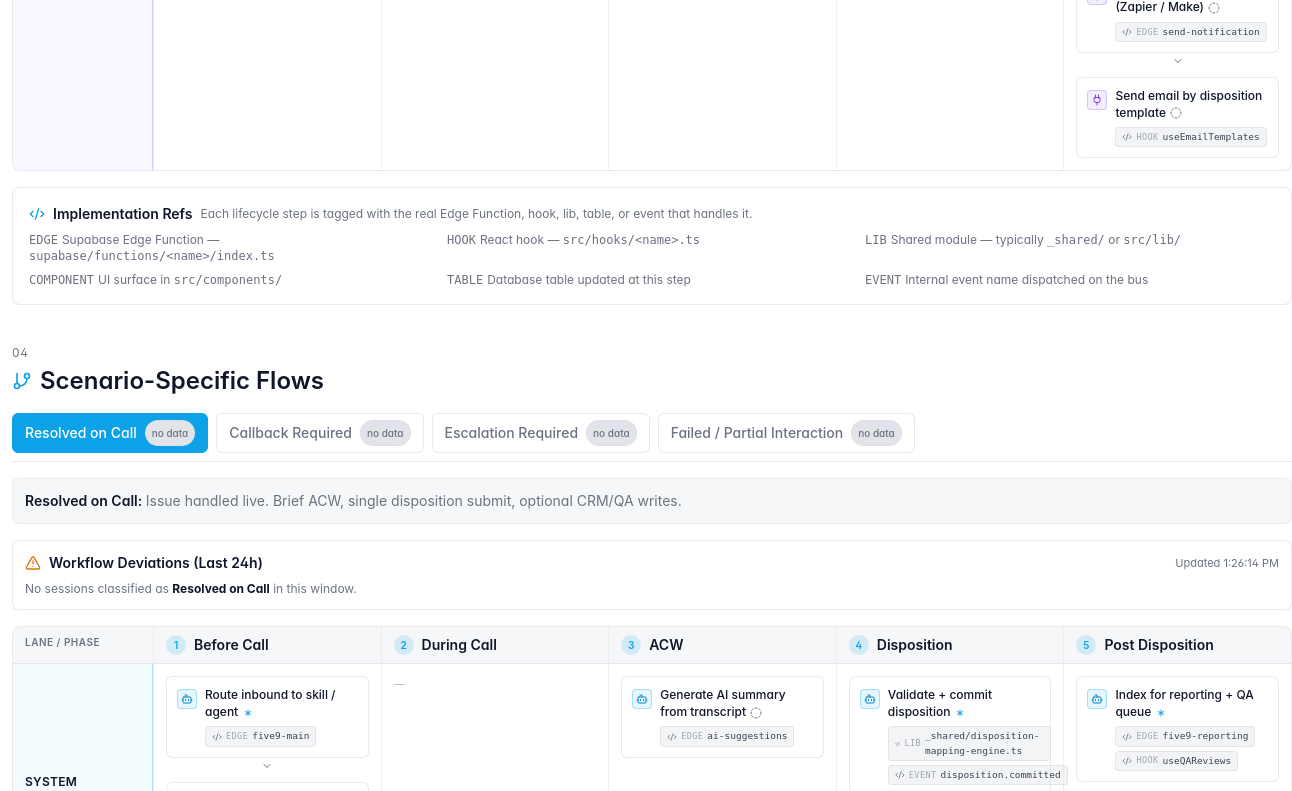
Scenario: /superadmin/call-flow smoke › switches scenario tabs on click
Later steps or results of the test are not shown.
(page scrolled)
Click the button "Callback Required no data" at x=320, y=433, box x1=216 y1=413 x2=424 y2=453
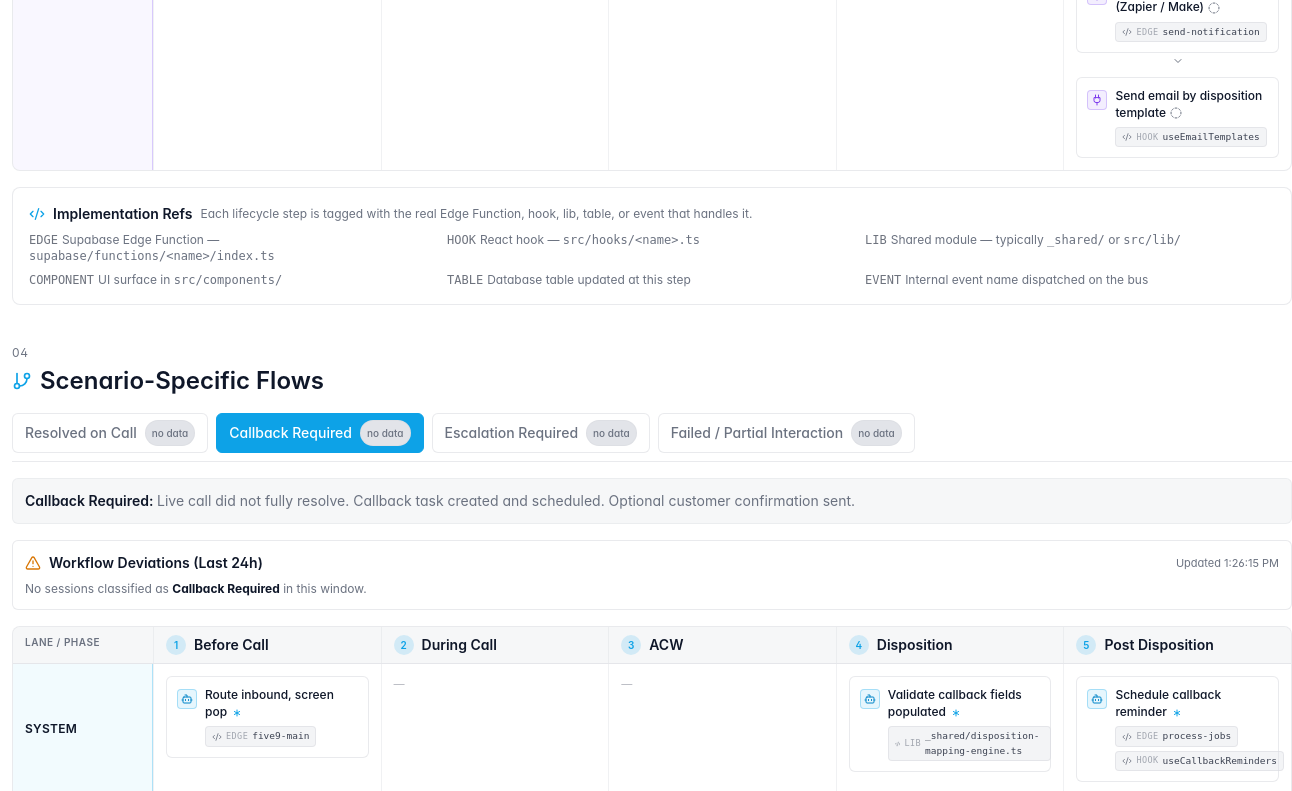
Expected: the text "Live call did not fully resolve" is shown, x1=157 y1=492 x2=855 y2=509
